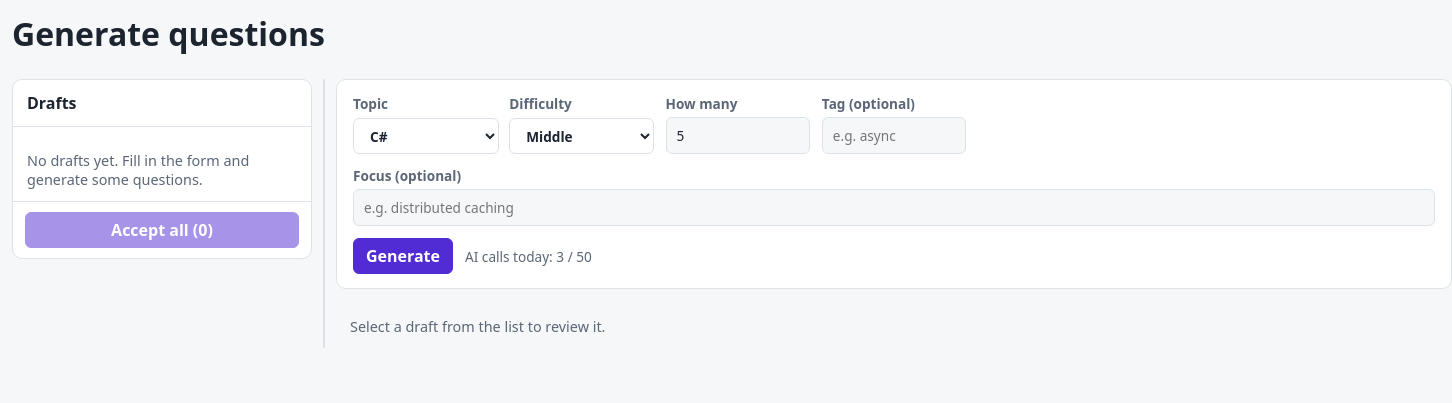
GenerateQuestionsPage › generating › copes with every Draft being a duplicate
Click the button "Generate" at (403, 256), box [353,238,453,274]
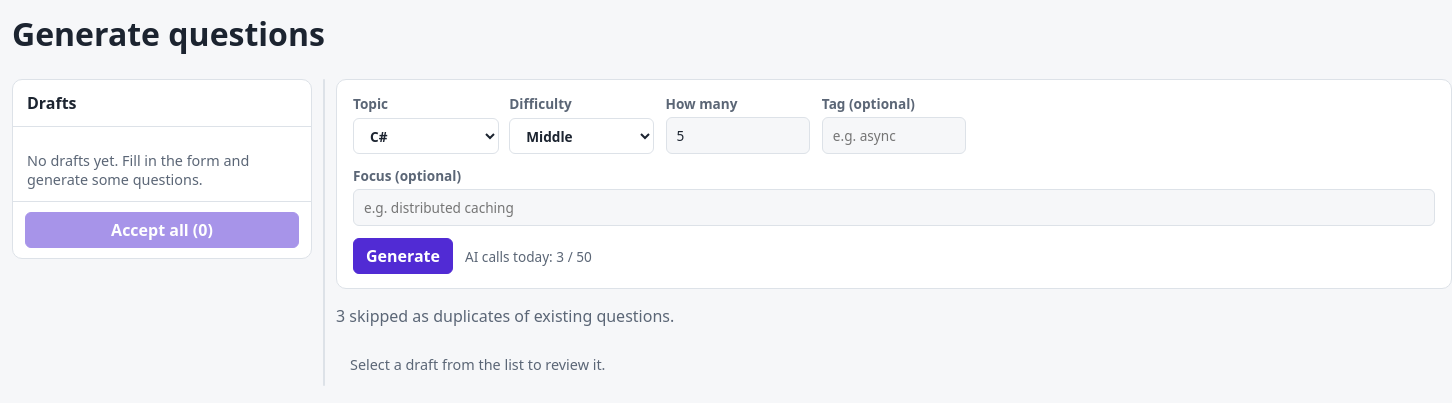
Expected: the text "Select a draft from the list to review it." is shown, [350,355,606,374]
Now the text "3 skipped as duplicates of existing questions." is shown, box [336,305,674,327]
